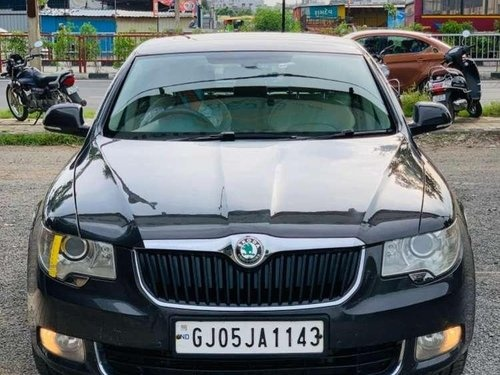license_plate: (175, 321, 324, 353)
